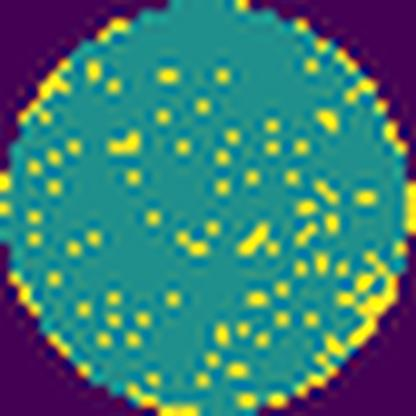Edge-Loc: (290, 245, 400, 397)
